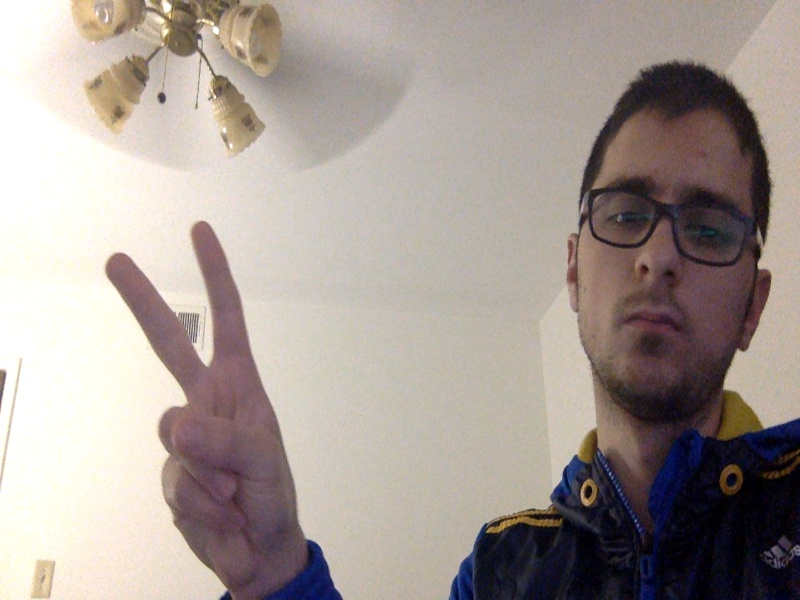2-hand: (103, 221, 295, 592)
